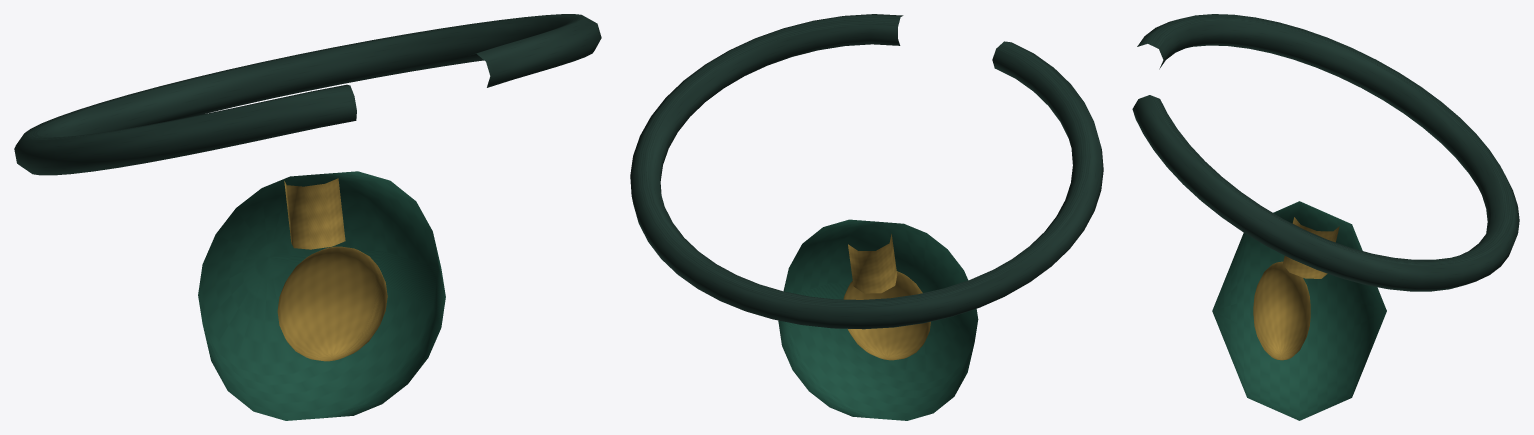
The model's file is ssarathi_shell_amulet.glb.
The picture shows the model from 3 angles, left to right: view 1: azimuth 30°, elevation 25°; view 2: azimuth 150°, elevation 25°; view 3: azimuth 270°, elevation 25°; orthographic projection. The views are drawn at different scales.
Parts seen in each view (by area): view 1: Ssarathi Shell Amulet; view 2: Ssarathi Shell Amulet; view 3: Ssarathi Shell Amulet.
Part boxes in pixels (bbox=[...]): Ssarathi Shell Amulet: bbox=[14, 14, 601, 420]; Ssarathi Shell Amulet: bbox=[630, 14, 1103, 420]; Ssarathi Shell Amulet: bbox=[1132, 14, 1519, 420].
Bounding box in the file's own units: 0.1743 × 0.1295 × 0.1329.
Materials: 3 (3 with a texture image).
